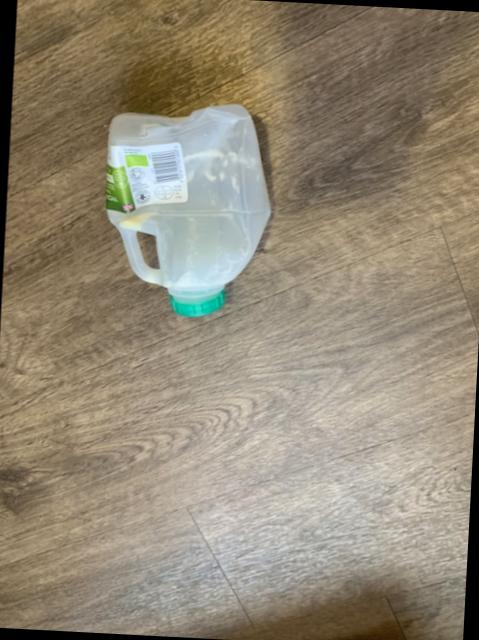plastic: (104, 106, 267, 317)
